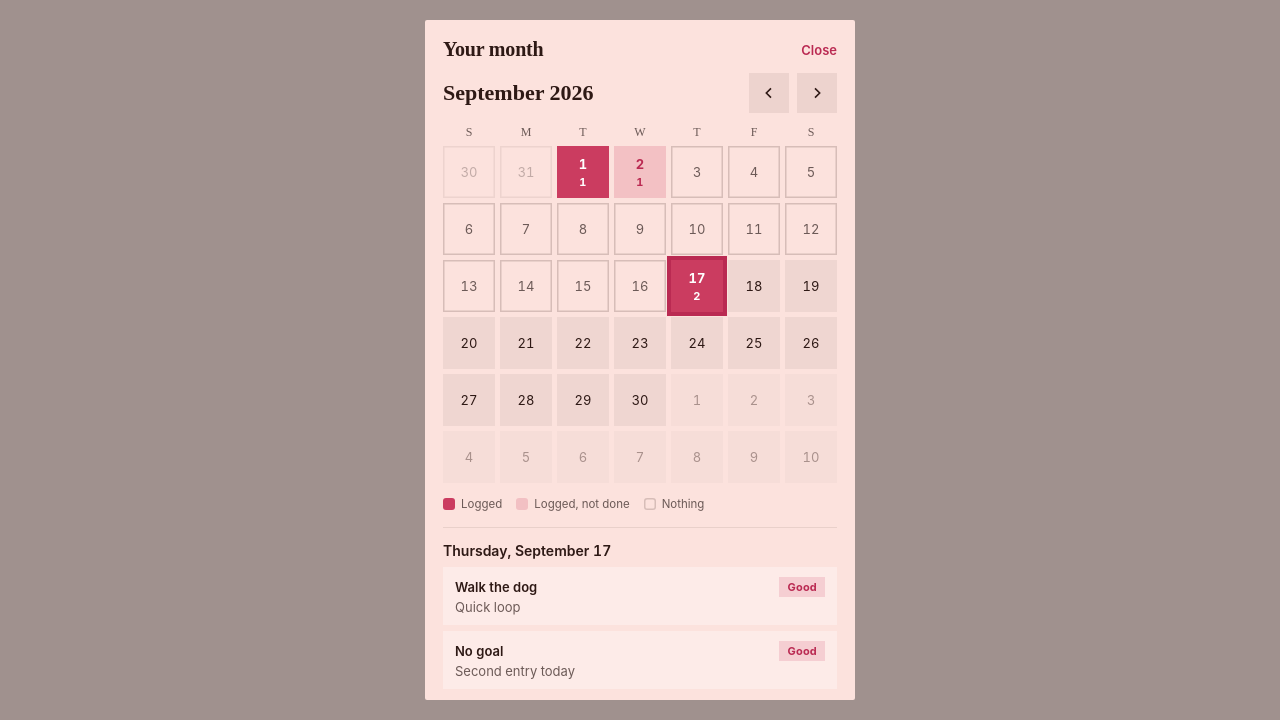
Test case: CalendarModal › shows another day when picked
Step 1. Click the button named "Tuesday, September 1," → (583, 172), box [557,146,609,198]
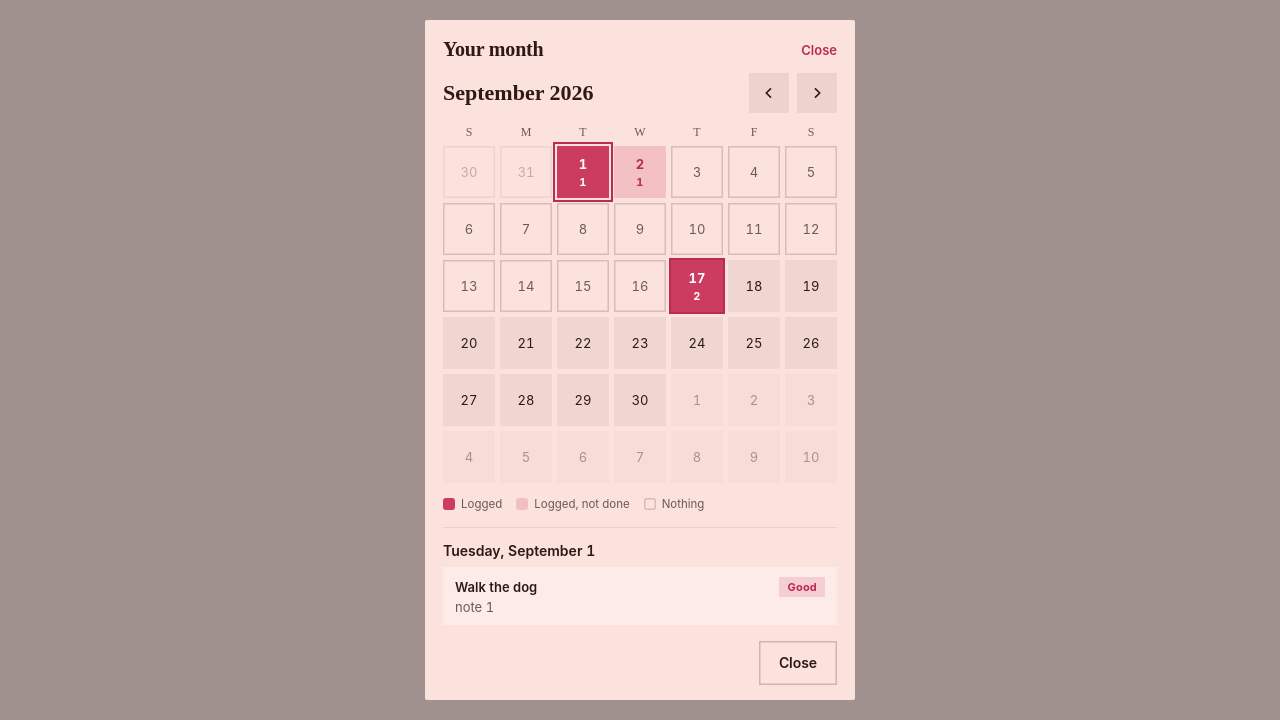
Check: the heading "Tuesday, September 1" is shown, box [443,542,595,559]
Check: the text "note 1" is shown, box [455,599,494,615]
